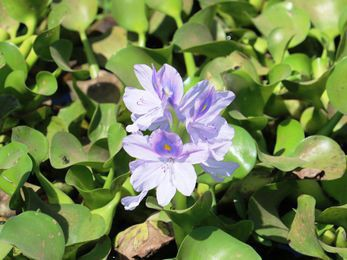water_hyacinth: (2, 1, 347, 259)
